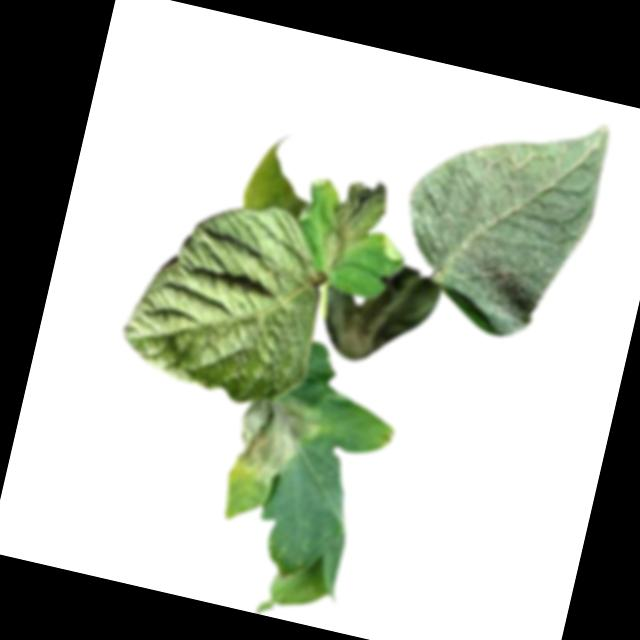Late_blight: (309, 248, 445, 375), (227, 388, 324, 492), (315, 171, 393, 282), (237, 125, 325, 221)
healthy: (383, 84, 614, 353), (112, 178, 341, 416)
